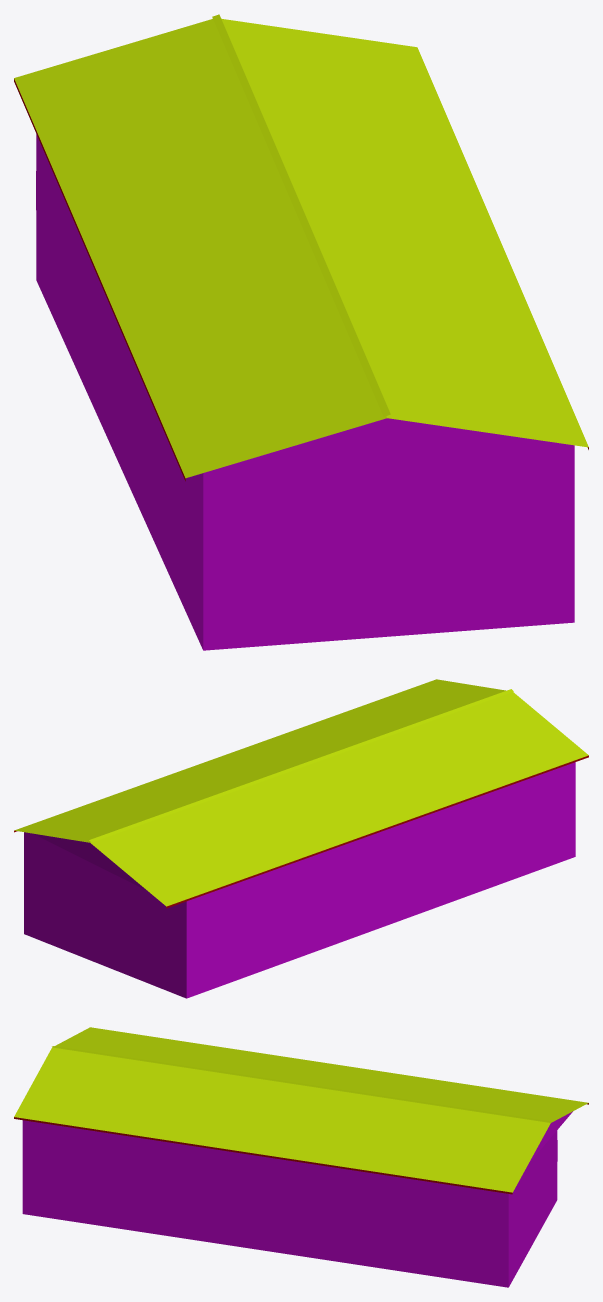
File: srz_14.glb
3 renders of one model, top to bottom at view 1: azimuth 30°, elevation 25°; view 2: azimuth 150°, elevation 25°; view 3: azimuth 270°, elevation 25°, orthographic. The views are drawn at different scales.
Visible parts, largest first — view 1: srz_14; view 2: srz_14; view 3: srz_14.
Part boxes in pixels (box(x1,y1,x2,y2)): srz_14: box(14, 14, 588, 650); srz_14: box(14, 679, 588, 998); srz_14: box(14, 1027, 588, 1287).
Bounding box in the file's own units: 22.98 × 8.11 × 33.76.
